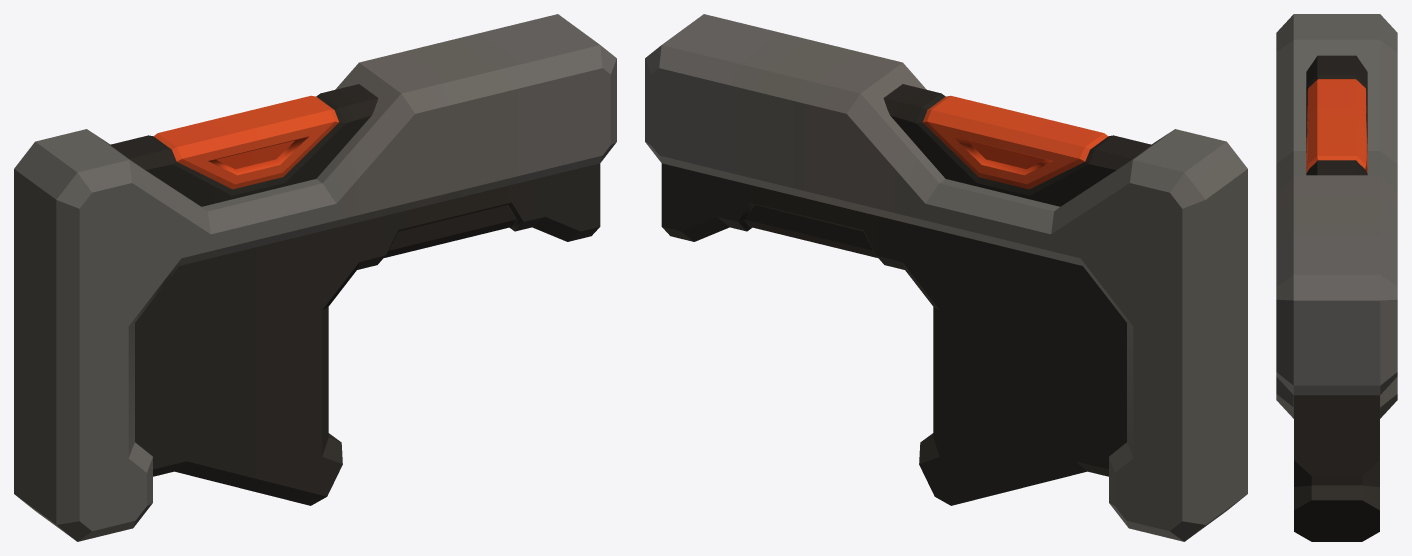
Rendered from SMG5_ButtstockHeavy.fbx.
3 views of the same model, side by side, from view 1: azimuth 30°, elevation 25°; view 2: azimuth 150°, elevation 25°; view 3: azimuth 270°, elevation 25° (orthographic). The views are drawn at different scales.
Parts seen in each view (by area): view 1: SMG5_ButtstockHeavy; view 2: SMG5_ButtstockHeavy; view 3: SMG5_ButtstockHeavy.
Boxes of the visible parts, <box> form: SMG5_ButtstockHeavy: <box>14,14,616,541</box>; SMG5_ButtstockHeavy: <box>645,14,1247,541</box>; SMG5_ButtstockHeavy: <box>1276,14,1397,541</box>.
Bounding box in the file's own units: 17.35 × 11.8 × 3.18.
